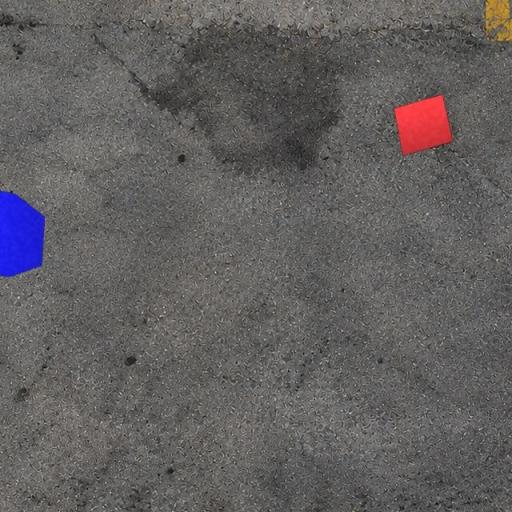RED_SQUARE: (392, 94, 454, 156)
